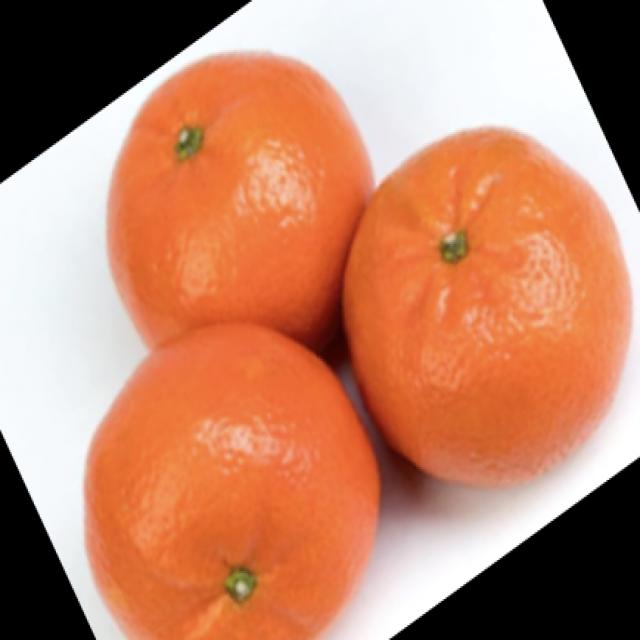fresh: (65, 52, 634, 640)
